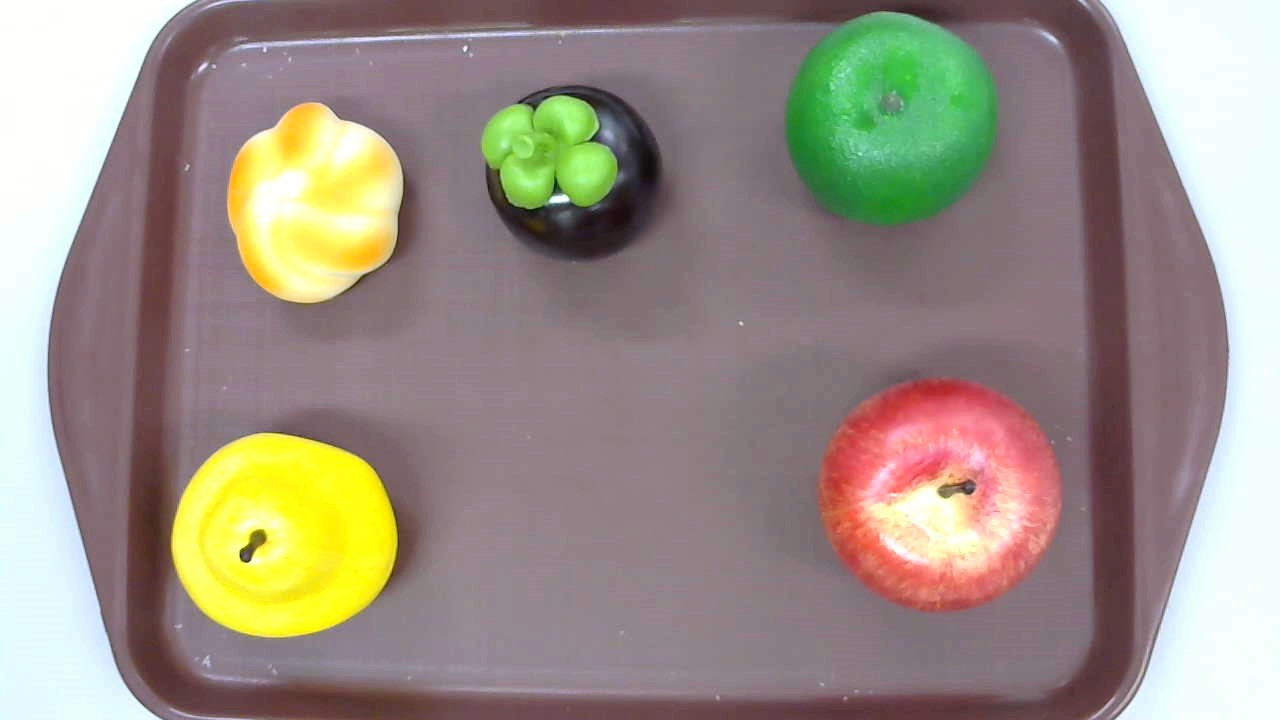green orange: (785, 12, 998, 228)
mangosteen: (481, 84, 665, 265)
red apple: (817, 377, 1062, 616)
twist bread: (227, 103, 403, 304)
yellow pear: (170, 433, 397, 638)
